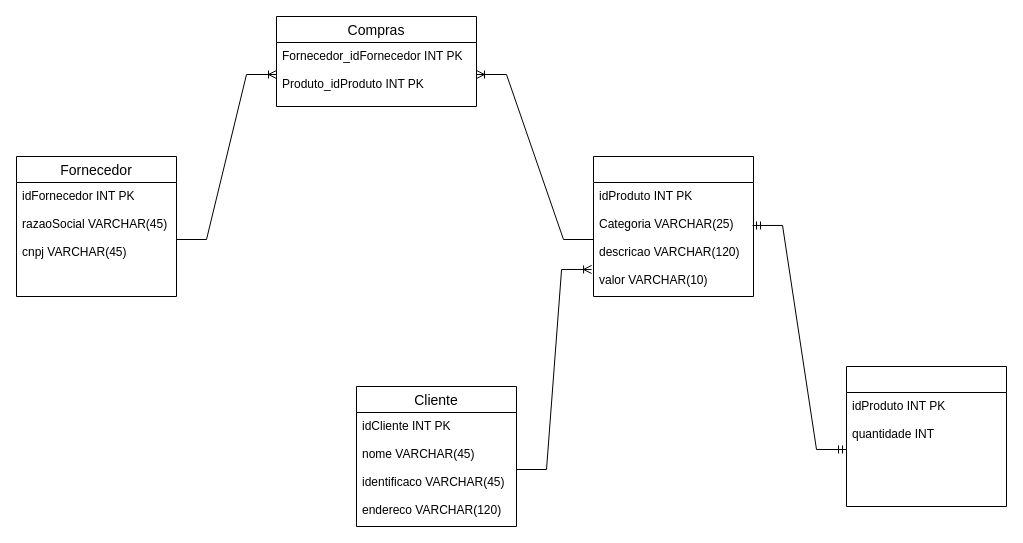
The diagram is 1023 pixels wide and 543 high, and some of its shapes have lost their labels. The box of each missing label's shape, as (x1, y1, x2, y2) in pixels:
Estoque: (846, 366, 1006, 506)
Pedido: (592, 156, 754, 296)
